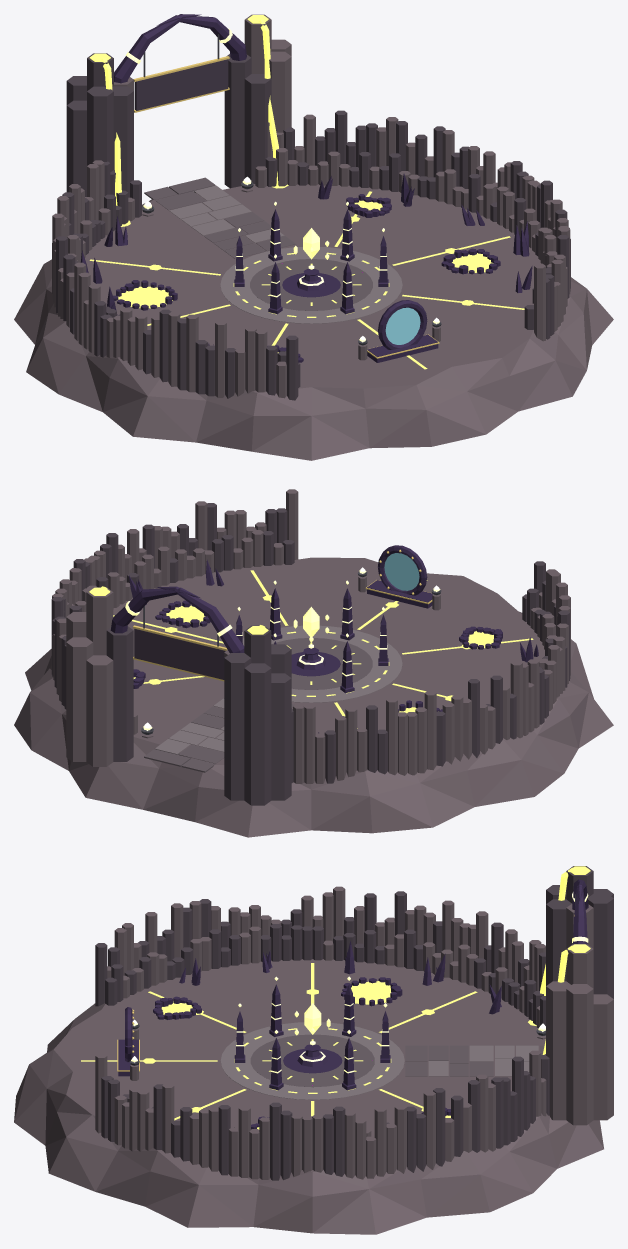
File: volcano_base.fbx
3 renders of one model, top to bottom at view 1: azimuth 30°, elevation 25°; view 2: azimuth 150°, elevation 25°; view 3: azimuth 270°, elevation 25°, orthographic.
Parts seen in each view (by area): view 1: Rock_volcano_base, RockDark_volcano_base, Obsidian_volcano_base, Basalt_volcano_base, BasaltDark_volcano_base, Lava_volcano_base, Board_volcano_base, Portal_volcano_base, Gold_volcano_base, Ember_volcano_base; view 2: Rock_volcano_base, RockDark_volcano_base, Obsidian_volcano_base, Basalt_volcano_base, BasaltDark_volcano_base, Board_volcano_base, Lava_volcano_base, Portal_volcano_base, Gold_volcano_base, Ember_volcano_base, Crystal_volcano_base; view 3: Rock_volcano_base, RockDark_volcano_base, Obsidian_volcano_base, Basalt_volcano_base, BasaltDark_volcano_base, Lava_volcano_base, Ember_volcano_base.
Part boxes in pixels (left/top/right/bottom): Rock_volcano_base: left=14, top=14, right=613, bottom=460; RockDark_volcano_base: left=52, top=53, right=570, bottom=400; Obsidian_volcano_base: left=80, top=14, right=532, bottom=362; Basalt_volcano_base: left=169, top=185, right=402, bottom=323; BasaltDark_volcano_base: left=144, top=177, right=372, bottom=310; Lava_volcano_base: left=89, top=15, right=524, bottom=369; Board_volcano_base: left=134, top=59, right=228, bottom=110; Portal_volcano_base: left=385, top=307, right=420, bottom=344; Gold_volcano_base: left=133, top=56, right=439, bottom=358; Ember_volcano_base: left=125, top=28, right=439, bottom=341; Rock_volcano_base: left=14, top=489, right=613, bottom=837; RockDark_volcano_base: left=51, top=503, right=570, bottom=805; Obsidian_volcano_base: left=110, top=545, right=538, bottom=733; Basalt_volcano_base: left=155, top=625, right=402, bottom=754; BasaltDark_volcano_base: left=144, top=638, right=372, bottom=772; Board_volcano_base: left=134, top=628, right=225, bottom=679; Lava_volcano_base: left=89, top=570, right=533, bottom=728; Portal_volcano_base: left=384, top=553, right=419, bottom=590; Gold_volcano_base: left=133, top=549, right=432, bottom=681; Ember_volcano_base: left=125, top=570, right=440, bottom=730; Crystal_volcano_base: left=293, top=606, right=329, bottom=642; Rock_volcano_base: left=14, top=886, right=613, bottom=1234; RockDark_volcano_base: left=95, top=866, right=613, bottom=1180; Obsidian_volcano_base: left=118, top=879, right=588, bottom=1129; Basalt_volcano_base: left=220, top=1022, right=538, bottom=1099; BasaltDark_volcano_base: left=250, top=1034, right=544, bottom=1087; Lava_volcano_base: left=81, top=866, right=590, bottom=1129; Ember_volcano_base: left=131, top=892, right=588, bottom=1073.
Size of the model in its own units: 200 by 83.06 by 202.
